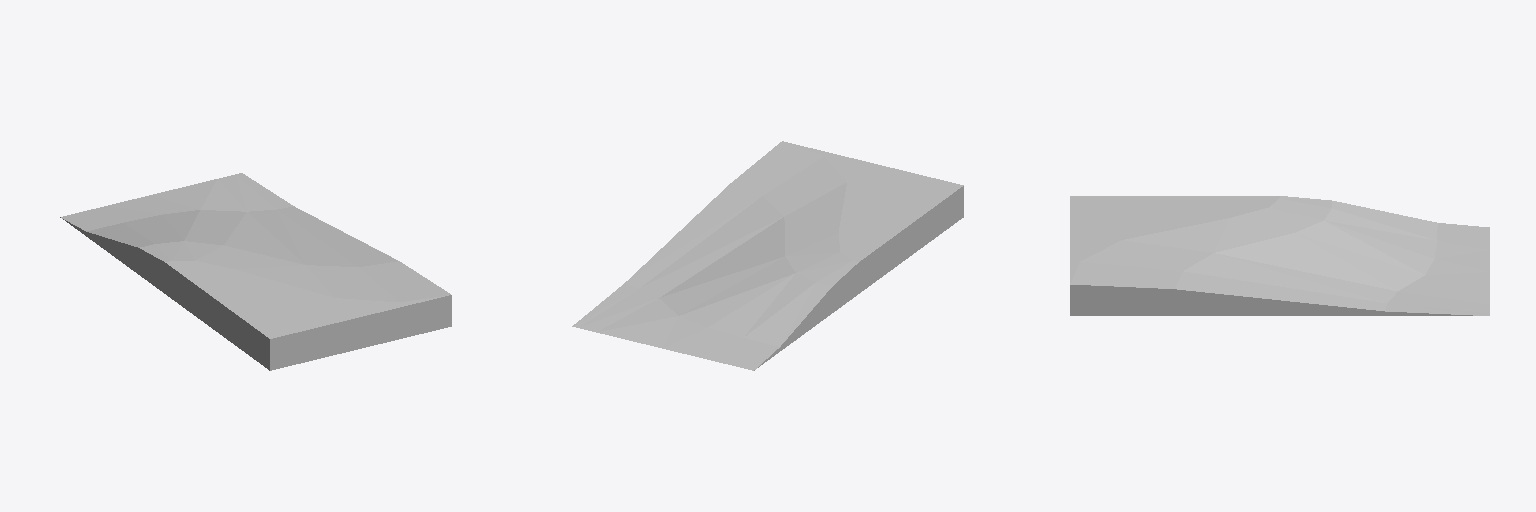
File: Sand_Side_Transition_From_Gentle.obj
3 views of the same model, side by side, from view 1: azimuth 30°, elevation 25°; view 2: azimuth 150°, elevation 25°; view 3: azimuth 270°, elevation 25° (orthographic).
Visible parts, largest first — view 1: object1; view 2: object1; view 3: object1.
Boxes of the visible parts, x1=… form: object1: x1=60, y1=173, x2=451, y2=370; object1: x1=572, y1=141, x2=963, y2=370; object1: x1=1070, y1=196, x2=1489, y2=315.
Size of the model in its own units: 3 by 0.5 by 6.